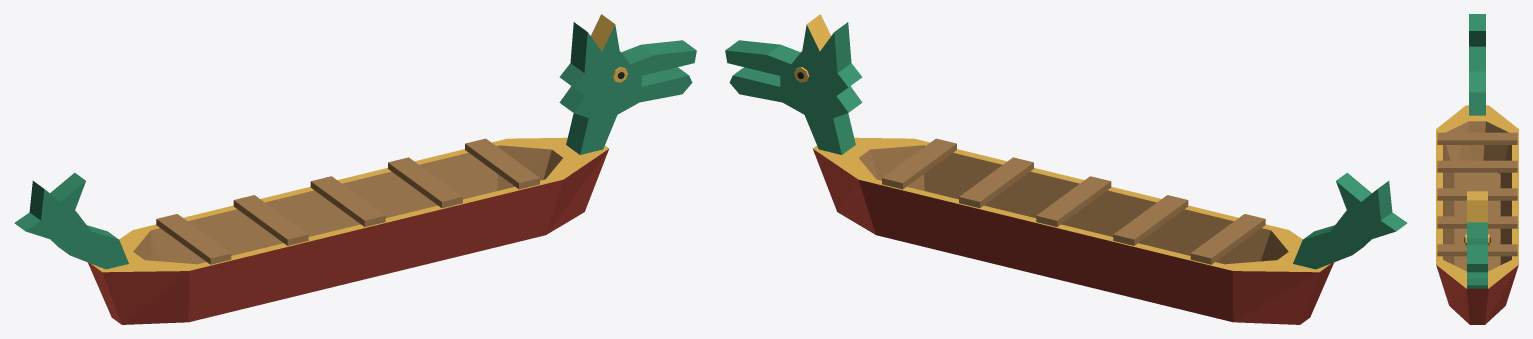
3 renders of one model, left to right at view 1: azimuth 30°, elevation 25°; view 2: azimuth 150°, elevation 25°; view 3: azimuth 270°, elevation 25°, orthographic. The views are drawn at different scales.
Visible parts, largest first — view 1: Dragonboat_ContinuousThickOpenHull, Dragon_WholeNeckOpenJawForkedCrest, Dragon_WholeUpturnedSternTail, FullTransverseSeat_01, FullTransverseSeat_02, FullTransverseSeat_03, FullTransverseSeat_05, FullTransverseSeat_04; view 2: Dragonboat_ContinuousThickOpenHull, Dragon_WholeNeckOpenJawForkedCrest, Dragon_WholeUpturnedSternTail, FullTransverseSeat_01, FullTransverseSeat_02, FullTransverseSeat_03, FullTransverseSeat_05, FullTransverseSeat_04; view 3: Dragonboat_ContinuousThickOpenHull, Dragon_WholeNeckOpenJawForkedCrest, Dragon_WholeUpturnedSternTail, FullTransverseSeat_01, FullTransverseSeat_02, FullTransverseSeat_03, FullTransverseSeat_04, FullTransverseSeat_05.
Boxes of the visible parts, bbox=[...] form: Dragonboat_ContinuousThickOpenHull: bbox=[88, 137, 609, 324]; Dragon_WholeNeckOpenJawForkedCrest: bbox=[559, 14, 696, 154]; Dragon_WholeUpturnedSternTail: bbox=[14, 172, 128, 269]; FullTransverseSeat_01: bbox=[156, 214, 231, 264]; FullTransverseSeat_02: bbox=[233, 195, 308, 245]; FullTransverseSeat_03: bbox=[310, 176, 385, 226]; FullTransverseSeat_05: bbox=[465, 138, 539, 189]; FullTransverseSeat_04: bbox=[388, 157, 462, 208]; Dragonboat_ContinuousThickOpenHull: bbox=[812, 137, 1333, 324]; Dragon_WholeNeckOpenJawForkedCrest: bbox=[725, 14, 862, 154]; Dragon_WholeUpturnedSternTail: bbox=[1293, 172, 1407, 269]; FullTransverseSeat_01: bbox=[1190, 214, 1265, 264]; FullTransverseSeat_02: bbox=[1113, 195, 1188, 245]; FullTransverseSeat_03: bbox=[1036, 176, 1111, 226]; FullTransverseSeat_05: bbox=[882, 138, 956, 189]; FullTransverseSeat_04: bbox=[959, 157, 1033, 208]; Dragonboat_ContinuousThickOpenHull: bbox=[1436, 105, 1518, 324]; Dragon_WholeNeckOpenJawForkedCrest: bbox=[1467, 191, 1487, 288]; Dragon_WholeUpturnedSternTail: bbox=[1469, 14, 1485, 115]; FullTransverseSeat_01: bbox=[1437, 132, 1517, 144]; FullTransverseSeat_02: bbox=[1437, 160, 1517, 172]; FullTransverseSeat_03: bbox=[1437, 188, 1517, 200]; FullTransverseSeat_04: bbox=[1437, 216, 1517, 228]; FullTransverseSeat_05: bbox=[1437, 244, 1517, 256].
Bounding box in the file's own units: 6.08 × 1.58 × 0.88.
